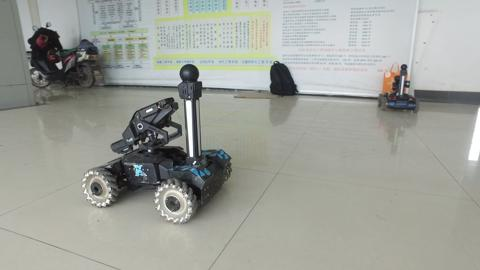bag: (263, 54, 306, 103)
chariot: (82, 51, 239, 230), (373, 63, 425, 118)
